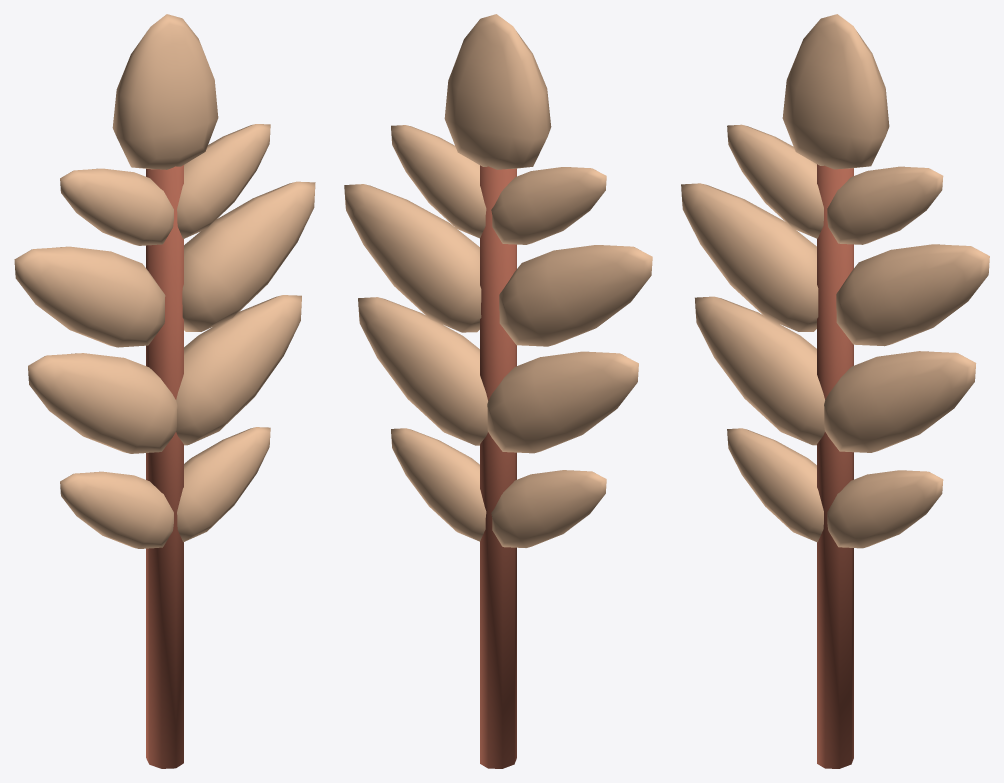
File: Wheat_Middle_single.fbx
3 views of the same model, side by side, from view 1: azimuth 30°, elevation 25°; view 2: azimuth 150°, elevation 25°; view 3: azimuth 330°, elevation 25° (orthographic).
Visible parts, largest first — view 1: Wheat_Middle_single; view 2: Wheat_Middle_single; view 3: Wheat_Middle_single.
Part boxes in pixels (x1=…): Wheat_Middle_single: x1=14, y1=14, x2=315, y2=768; Wheat_Middle_single: x1=344, y1=14, x2=652, y2=768; Wheat_Middle_single: x1=681, y1=14, x2=989, y2=768.
Bounding box in the file's own units: 17.72 × 41.46 × 4.03.
